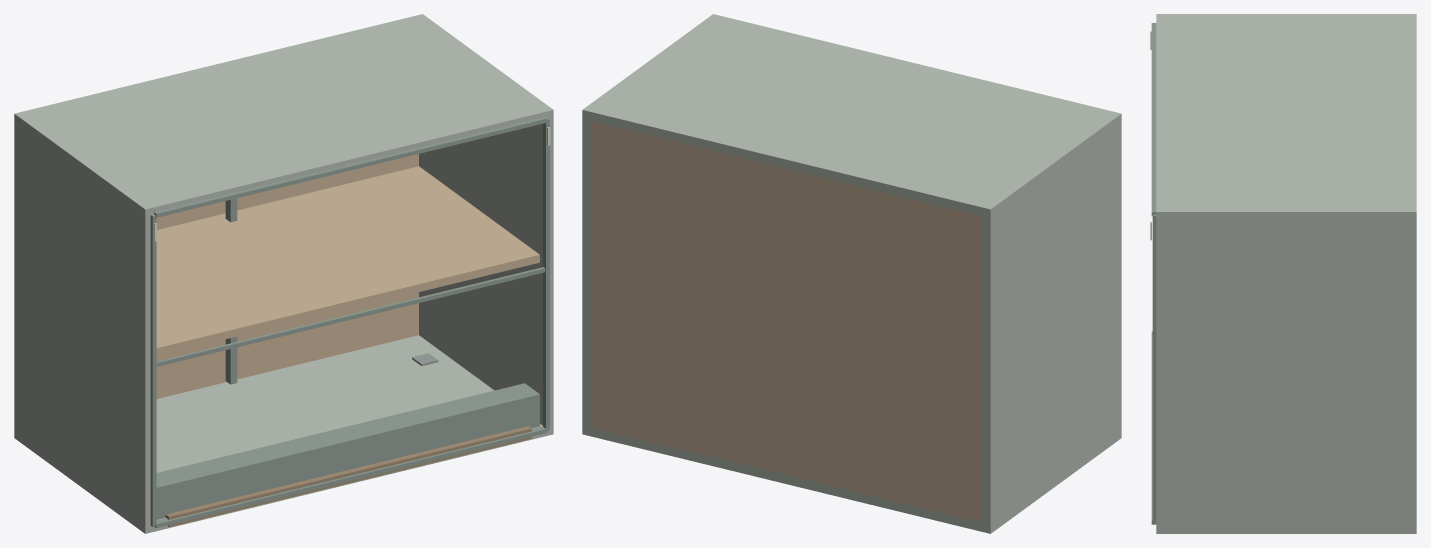
File: base_cabinet_body.glb
3 renders of one model, left to right at view 1: azimuth 30°, elevation 25°; view 2: azimuth 150°, elevation 25°; view 3: azimuth 270°, elevation 25°, orthographic.
Visible parts, largest first — view 1: baseCupboardBody; view 2: baseCupboardBody; view 3: baseCupboardBody.
Boxes of the visible parts, x1,y1,x2,y2 form: baseCupboardBody: (14, 14, 553, 533); baseCupboardBody: (582, 14, 1121, 533); baseCupboardBody: (1150, 14, 1416, 533).
Size of the model in its own units: 1.08 by 0.82 by 0.614.
